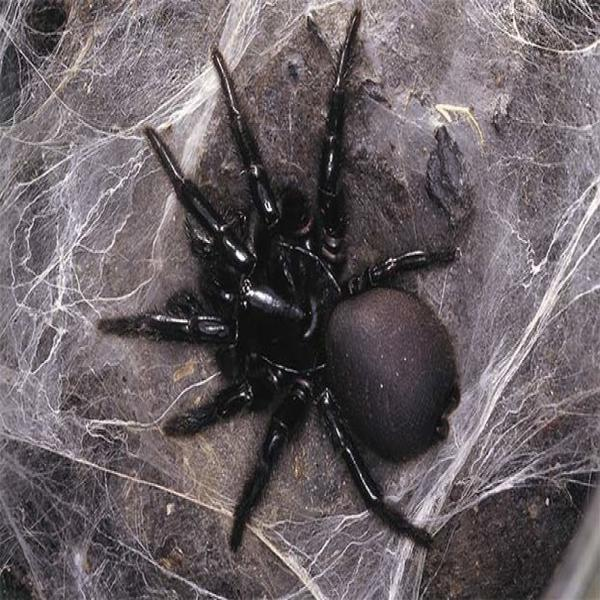Funnel Web Spider: (120, 15, 459, 553)
